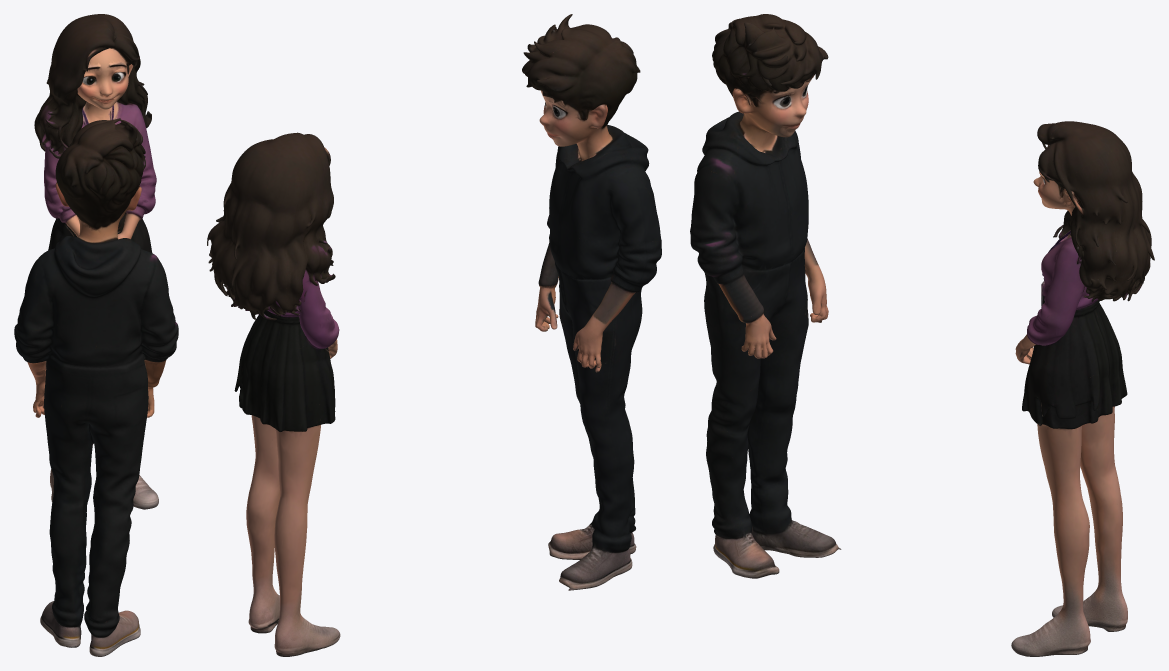
File: chapter2.glb
3 views of the same model, side by side, from view 1: azimuth 30°, elevation 25°; view 2: azimuth 150°, elevation 25°; view 3: azimuth 270°, elevation 25° (orthographic). The views are drawn at different scales.
Parts seen in each view (by area): view 1: mesh_node; view 2: mesh_node; view 3: mesh_node.
Part boxes in pixels (x1,y1,x2,y2): mesh_node: [14, 14, 178, 656]; mesh_node: [207, 14, 661, 656]; mesh_node: [690, 14, 1154, 656].
Size of the model in its own units: 0.0688 by 0.12 by 0.0914.
Materials: 1 (1 with a texture image).
